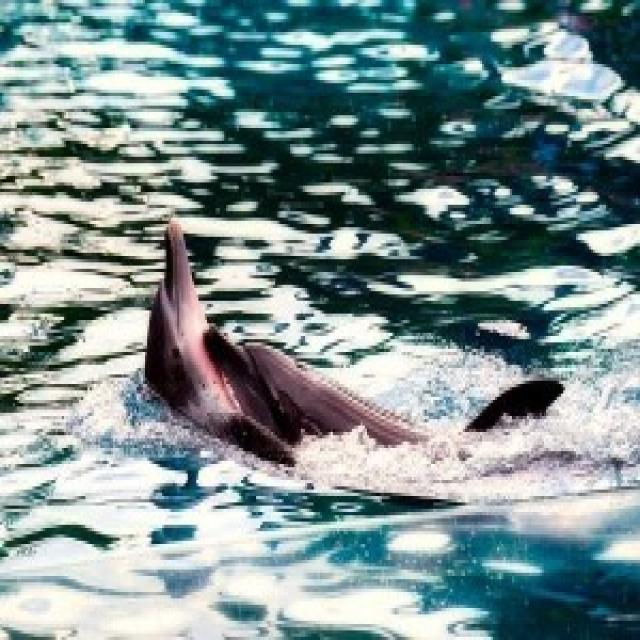Dolphin: (206, 308, 575, 496), (140, 208, 244, 527)
